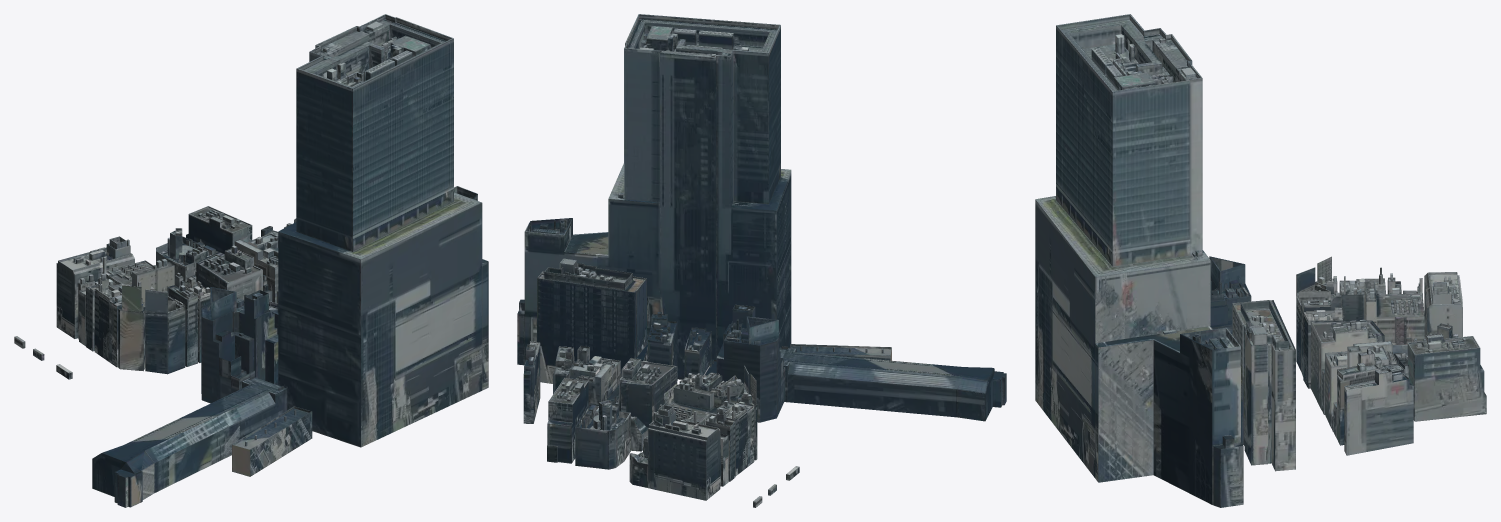
File: data501.glb
The picture shows the model from 3 angles, left to right: view 1: azimuth 30°, elevation 25°; view 2: azimuth 150°, elevation 25°; view 3: azimuth 270°, elevation 25°; orthographic projection. The views are drawn at different scales.
Bounding box in the file's own units: 245 × 187 × 201.
2 materials, 1 textured.
